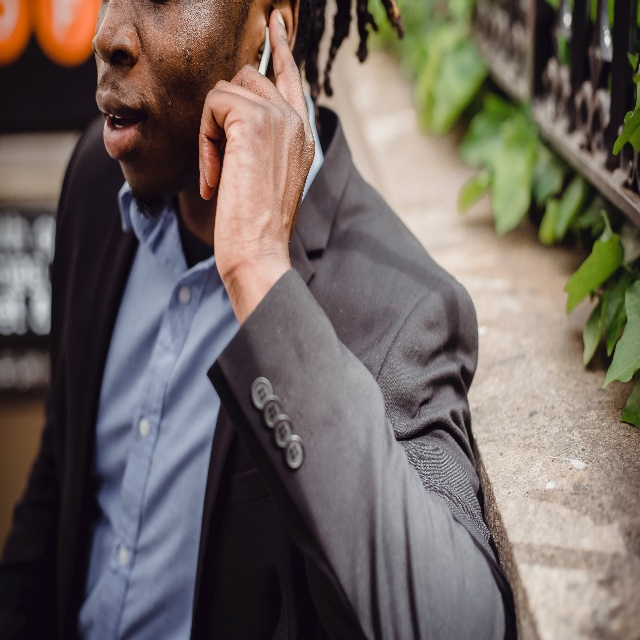Sin_guantes: (196, 12, 315, 256)
